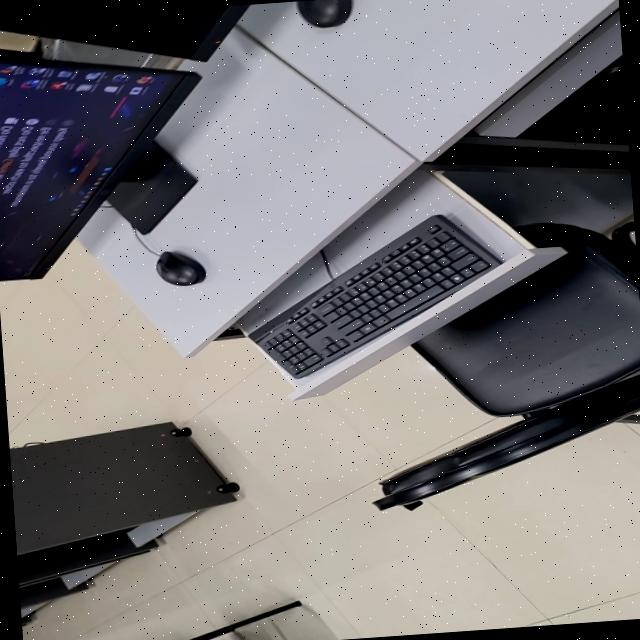Chair: (371, 222, 640, 509), (187, 600, 300, 640)
Cpu: (559, 54, 626, 114)
Keyboard: (248, 214, 500, 379)
Monitor: (0, 50, 200, 280), (0, 4, 248, 61)
Mouse: (155, 251, 205, 285), (296, 0, 350, 27)
